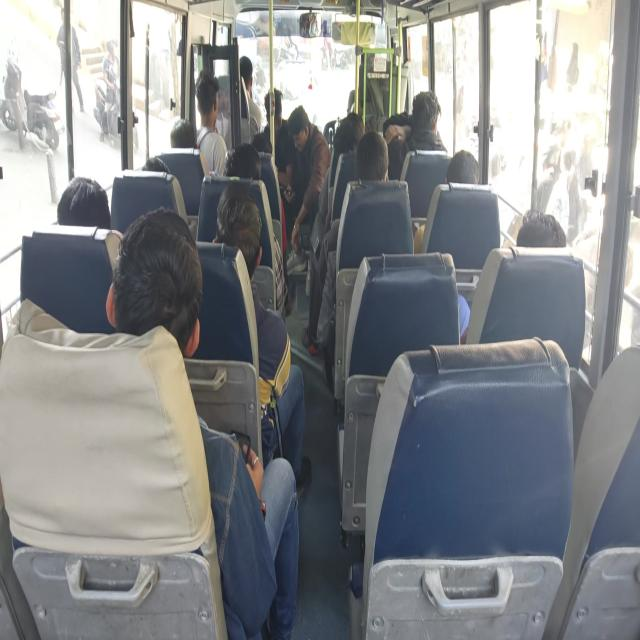person: (123, 242, 203, 354), (53, 171, 107, 237), (215, 194, 265, 254), (517, 205, 562, 259), (408, 94, 452, 144), (442, 148, 490, 186), (358, 141, 393, 184), (334, 121, 370, 160), (169, 118, 205, 157), (139, 147, 173, 184), (196, 74, 223, 117), (224, 150, 258, 180), (353, 38, 381, 74), (248, 130, 278, 159), (263, 93, 284, 129), (288, 111, 310, 144), (236, 58, 260, 88)
